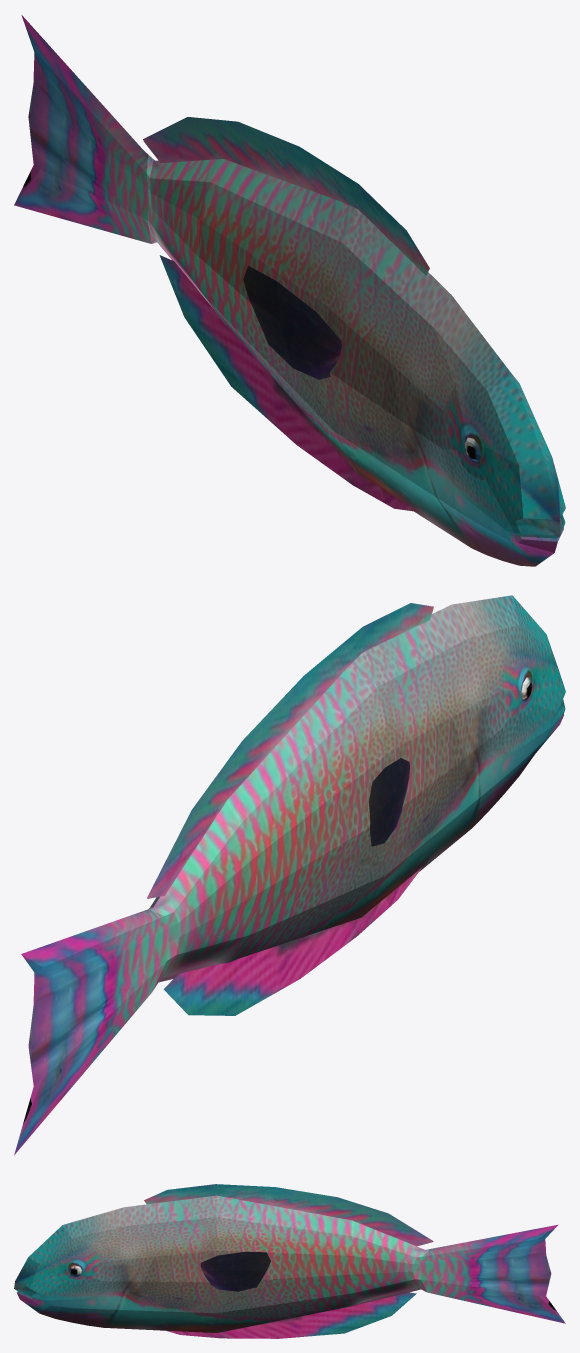
File: Fish01_1.fbx
3 views of the same model, one above another, from view 1: azimuth 30°, elevation 25°; view 2: azimuth 150°, elevation 25°; view 3: azimuth 270°, elevation 25° (orthographic). The views are drawn at different scales.
Visible parts, largest first — view 1: fish01_bluebarred_mesh; view 2: fish01_bluebarred_mesh; view 3: fish01_bluebarred_mesh.
Part boxes in pixels (bbox=[...]): fish01_bluebarred_mesh: bbox=[14, 15, 565, 566]; fish01_bluebarred_mesh: bbox=[14, 595, 565, 1155]; fish01_bluebarred_mesh: bbox=[14, 1184, 565, 1338].
Bounding box in the file's own units: 5.26 × 12.25 × 39.6.
